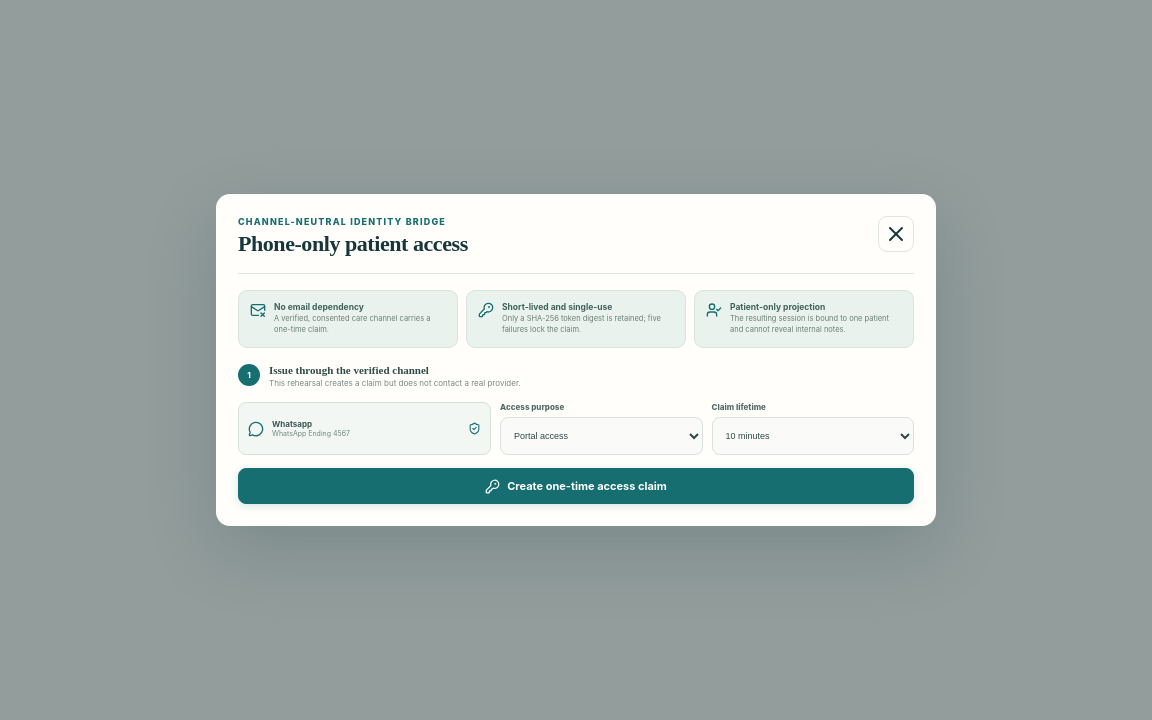
Test case: generic redemption failure permits a fresh claim without exposing an authenticated view
Step 1. Click the button "Create one-time access claim" → click(576, 486), box [238,468,914,504]
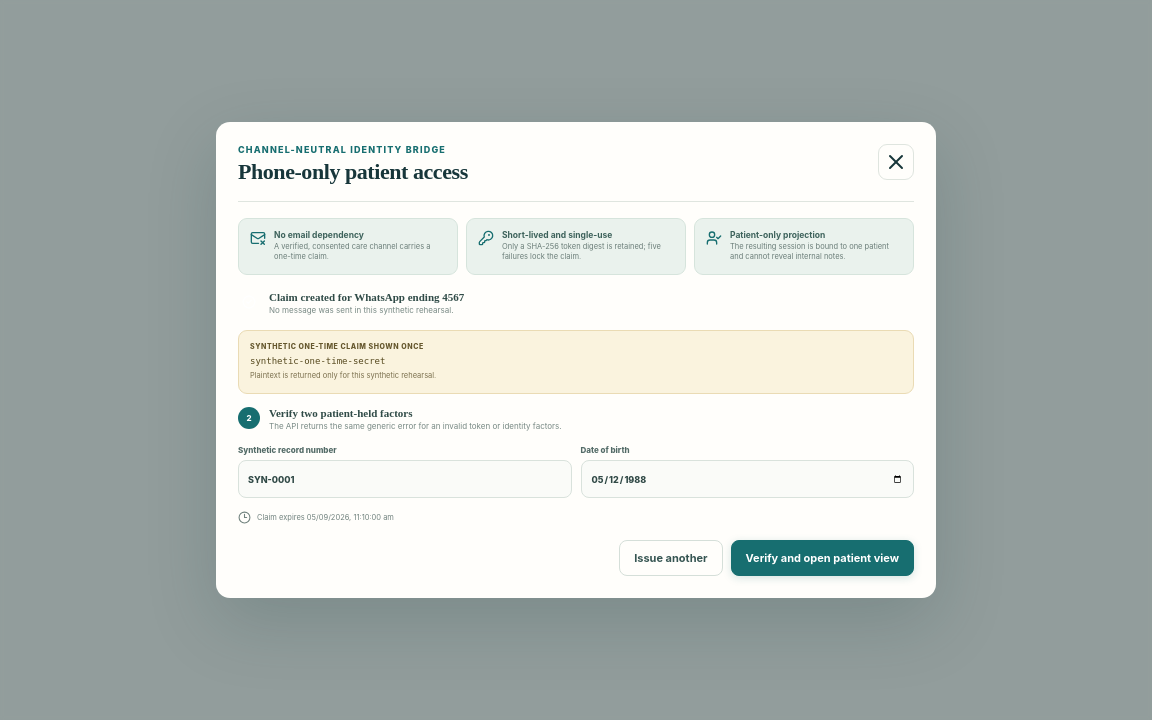
Expected: the text "synthetic-one-time-secret" is shown, [250,356,386,366]
Step 2. Click the button "Verify and open patient view" → click(822, 558), box [730,540,914,576]
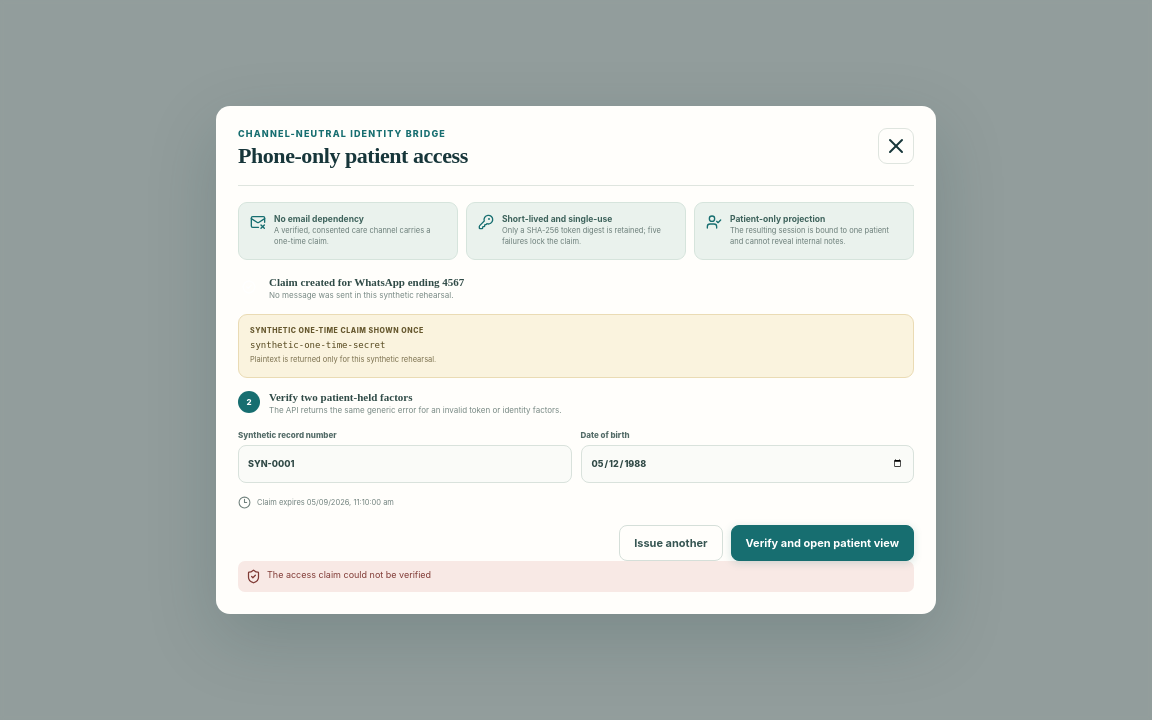
Expected: the message reads "The access claim could not be verified", [267,569,431,580]
Step 3. Click the button "Issue another" → click(671, 543), box [619,525,722,561]
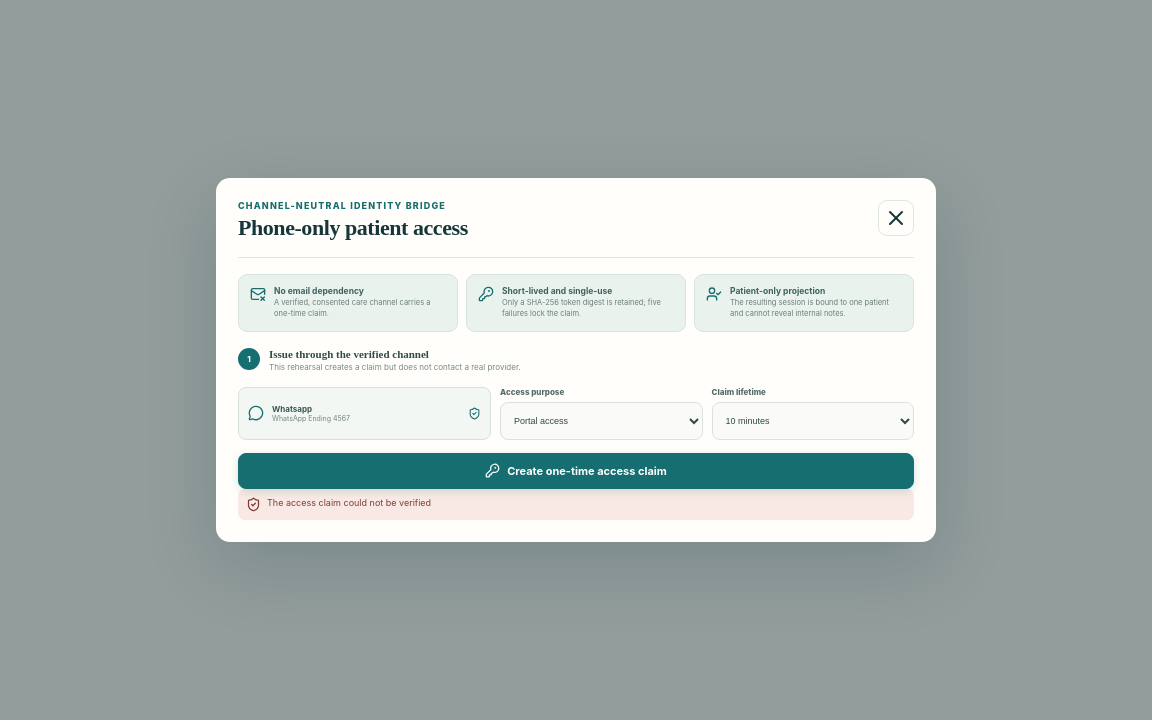
Expected: the button "Create one-time access claim" is shown, [238,453,914,489]
